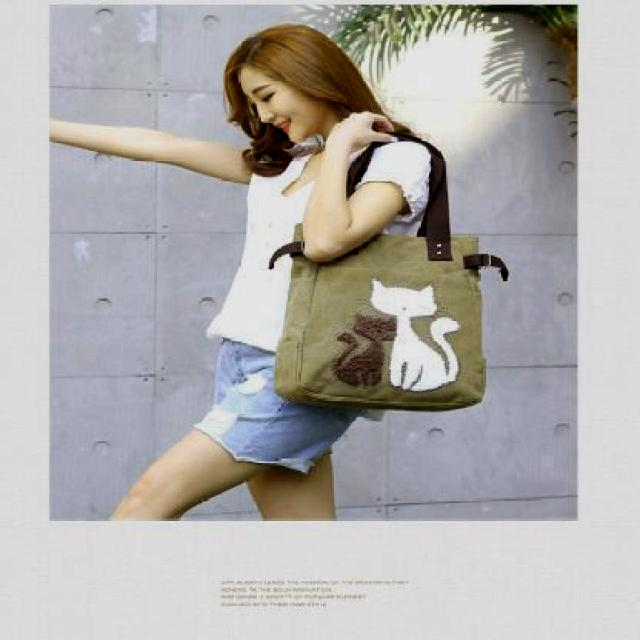face_nomask: (245, 74, 306, 148)
hand_noglove: (331, 112, 395, 150)
head_nohelmet: (217, 17, 334, 78)
person: (165, 6, 497, 548)
